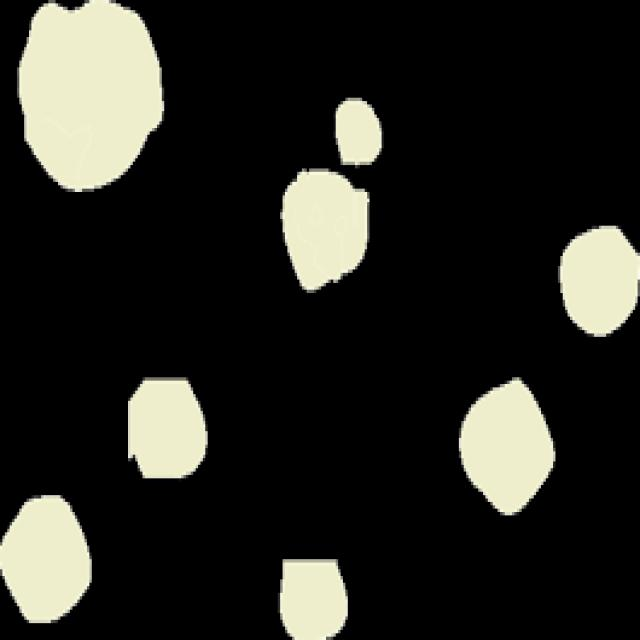cell: (22, 2, 164, 190), (460, 377, 560, 513), (0, 498, 94, 622), (281, 171, 368, 294), (122, 377, 206, 477), (562, 223, 637, 334), (278, 560, 348, 638), (338, 98, 379, 163)
